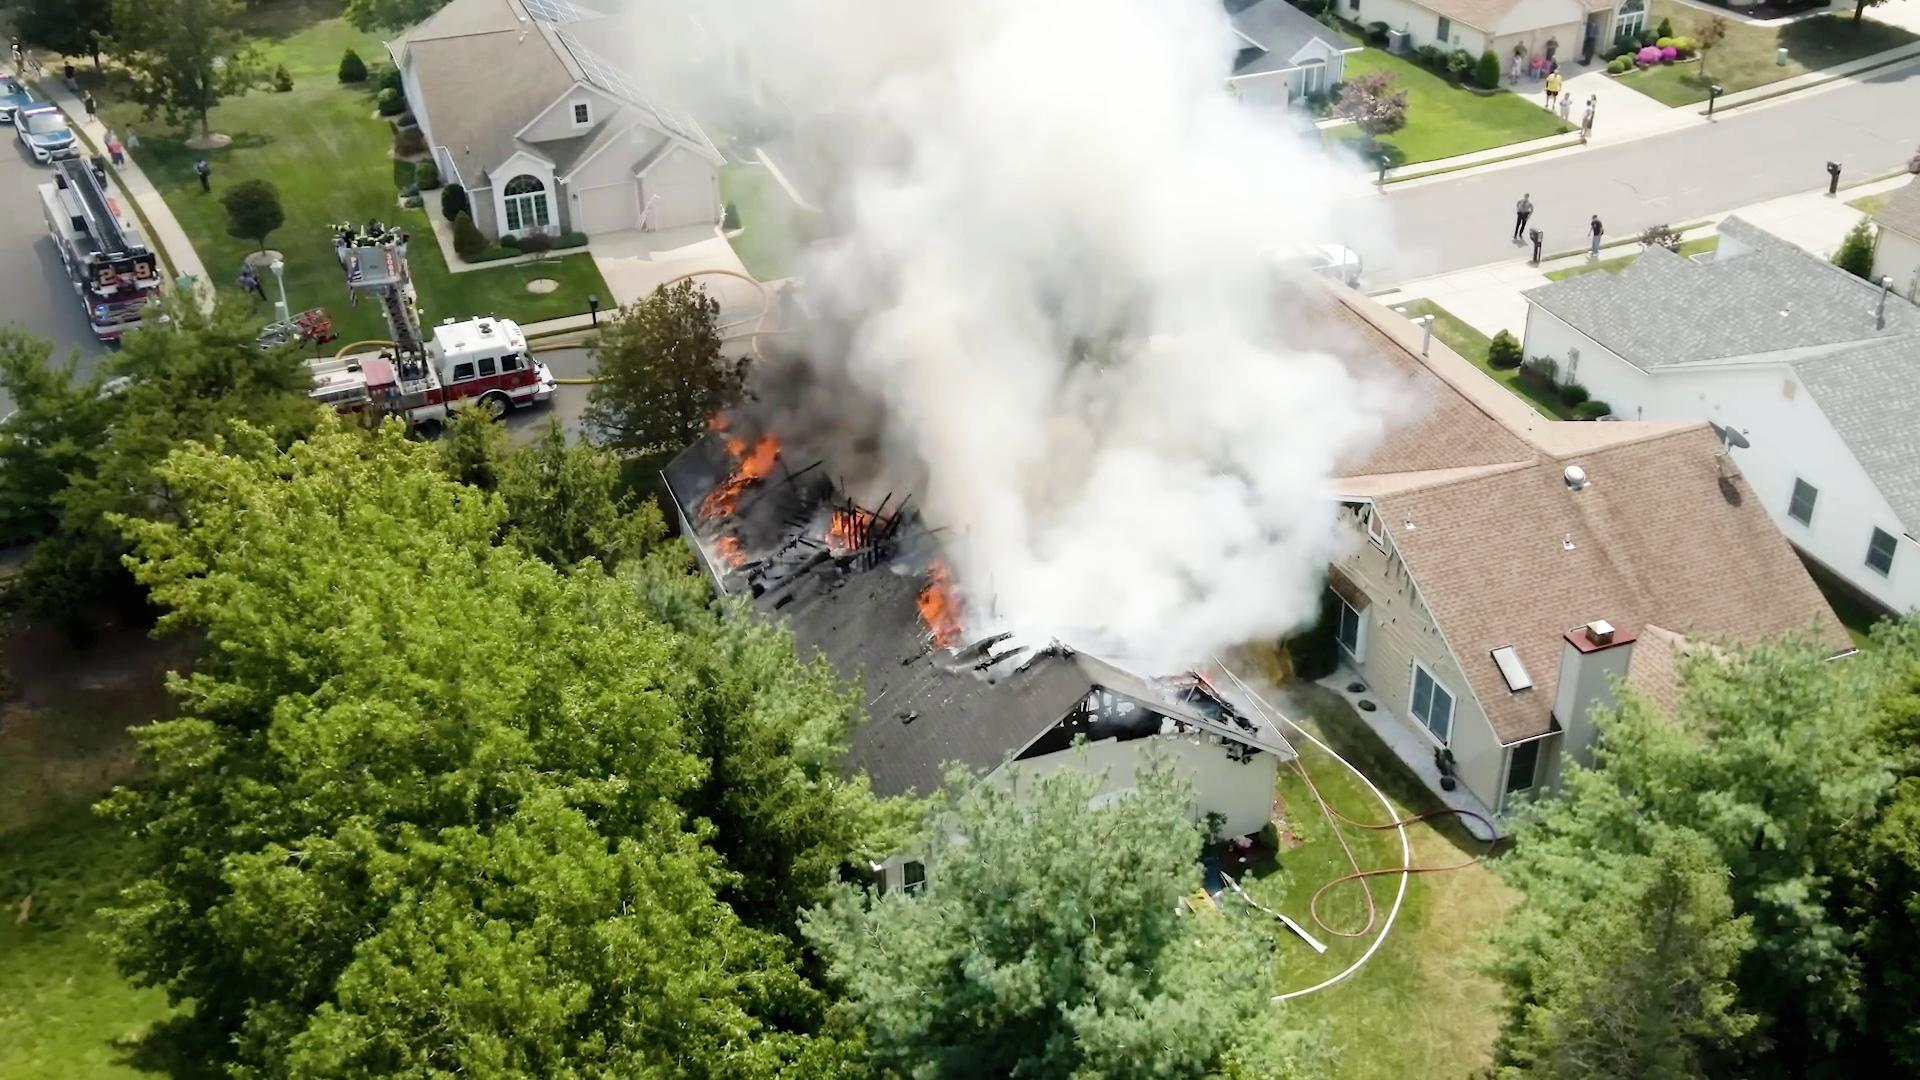smoke: (927, 142, 1238, 593), (823, 0, 1185, 208)
